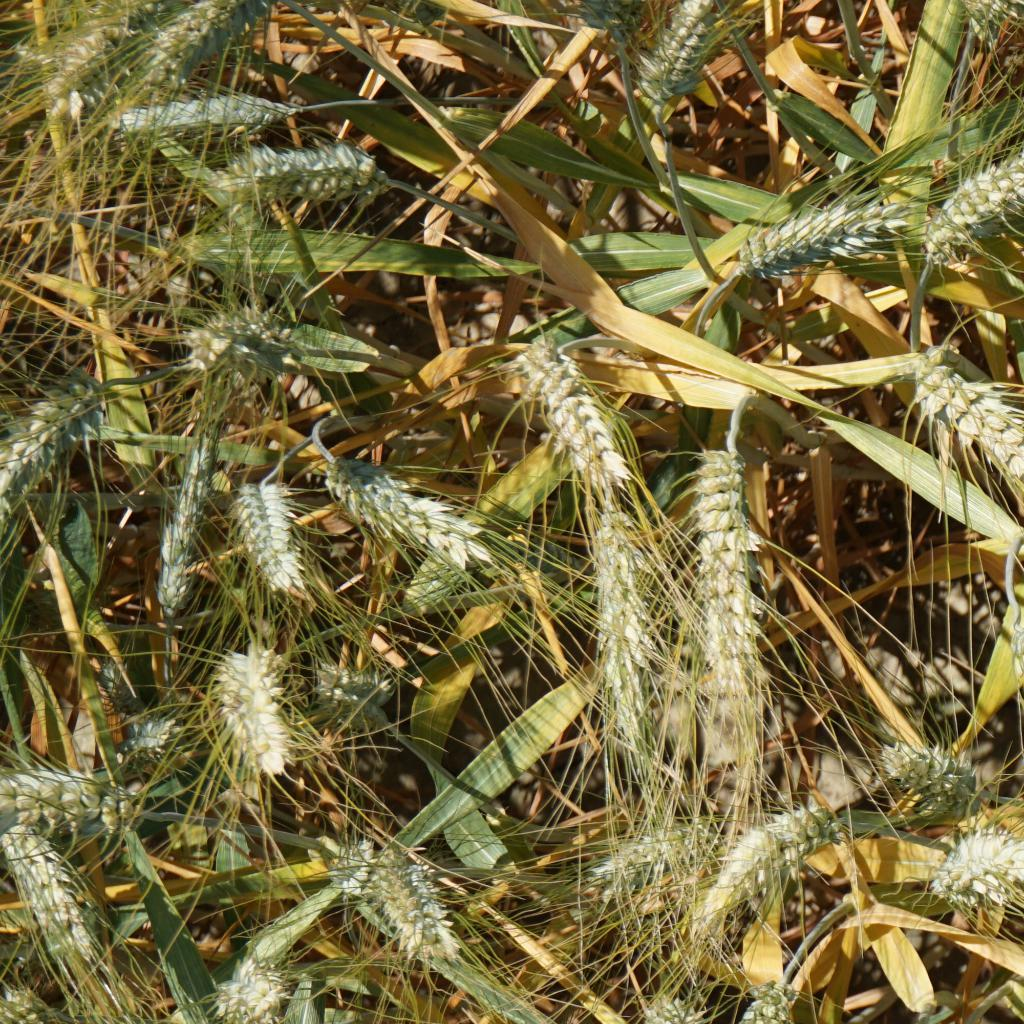0-0: (574, 492, 675, 761), (679, 433, 770, 700), (308, 445, 480, 581), (514, 330, 637, 496), (350, 838, 480, 984), (915, 362, 1024, 521), (896, 128, 1024, 262), (577, 802, 740, 907), (716, 179, 900, 271), (95, 77, 323, 151), (683, 783, 811, 911), (2, 835, 104, 982), (0, 747, 143, 848), (210, 630, 299, 781), (622, 0, 736, 108), (179, 287, 295, 393), (147, 425, 212, 614), (202, 137, 370, 208), (880, 720, 982, 834), (0, 389, 70, 541), (137, 0, 242, 90), (85, 645, 174, 751), (226, 472, 299, 584), (27, 11, 123, 96), (195, 951, 285, 1024), (307, 649, 397, 722), (687, 968, 803, 1024), (110, 685, 185, 768), (915, 866, 1008, 925), (941, 815, 1024, 880), (986, 584, 1024, 697), (626, 986, 691, 1024)
